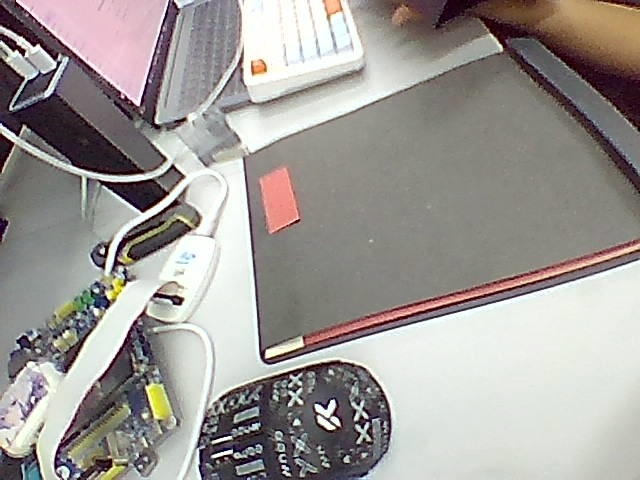card: (260, 167, 300, 233)
